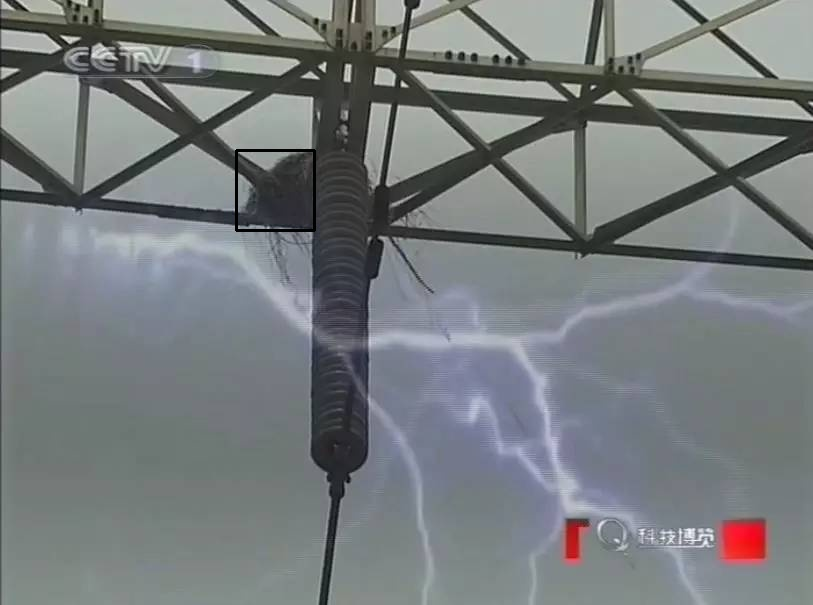bird-nest: (236, 150, 314, 230)
